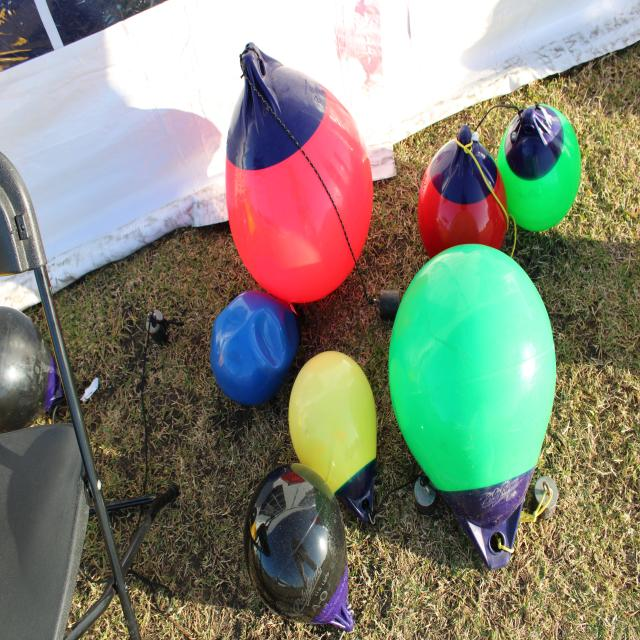black-buoy: (243, 464, 356, 629)
blue-buoy: (212, 291, 293, 401)
green-buoy: (383, 238, 562, 496), (498, 98, 580, 229)
red-buoy: (224, 41, 372, 302), (417, 126, 509, 252)
yellow-buoy: (285, 347, 382, 516)
